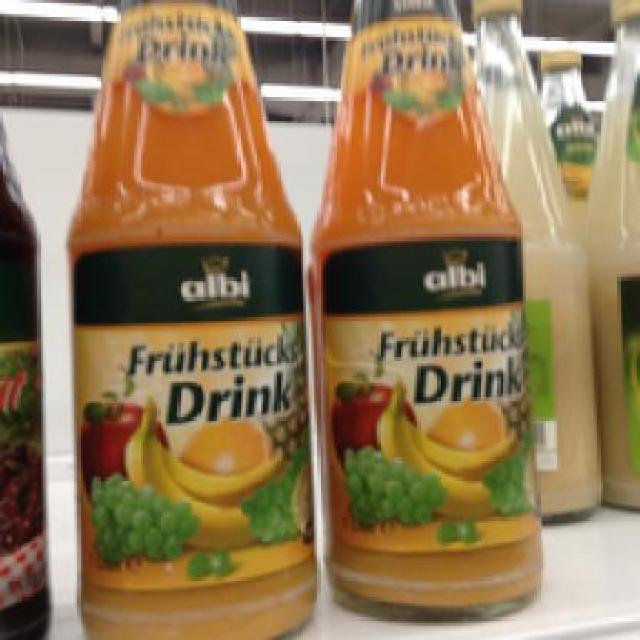Juice: (63, 0, 321, 635), (306, 0, 552, 620)
